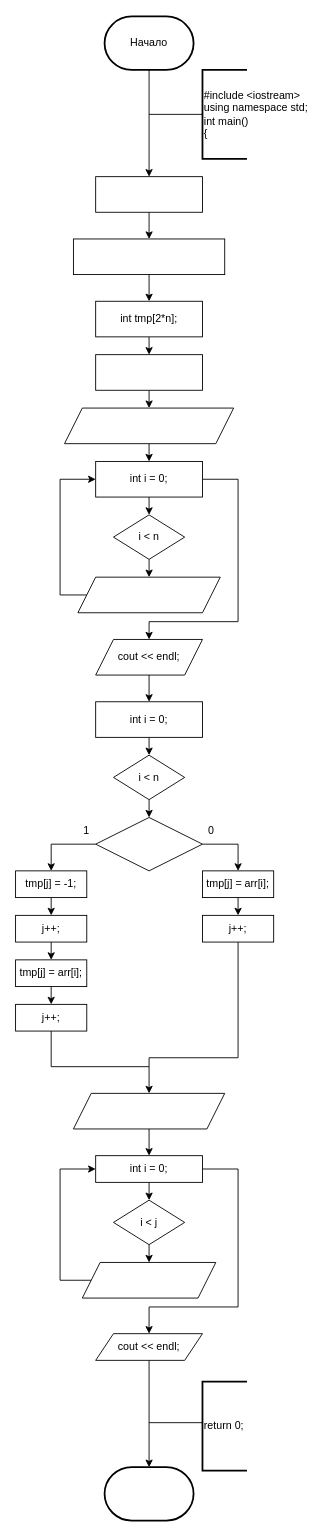
This 324x1536 diagram has some shape labels left out. The shapes that lost their labels are listed below. From the top down, each one's centre as x and y in pixels, then its label:
pixel 148 194: const int n = 6;
pixel 149 256: int arr[n] = {1, 2, 3, 4, 5, 6};
pixel 148 372: int j = 0;
pixel 149 425: cout << "Исходный массив: ";
pixel 148 594: cout << arr[i] << " ";
pixel 148 844: if (arr[i] % 2 == 0)
pixel 149 1110: cout << "Новый массив: ";
pixel 148 1280: cout << tmp[i] << " ";
pixel 148 1493: Конец
